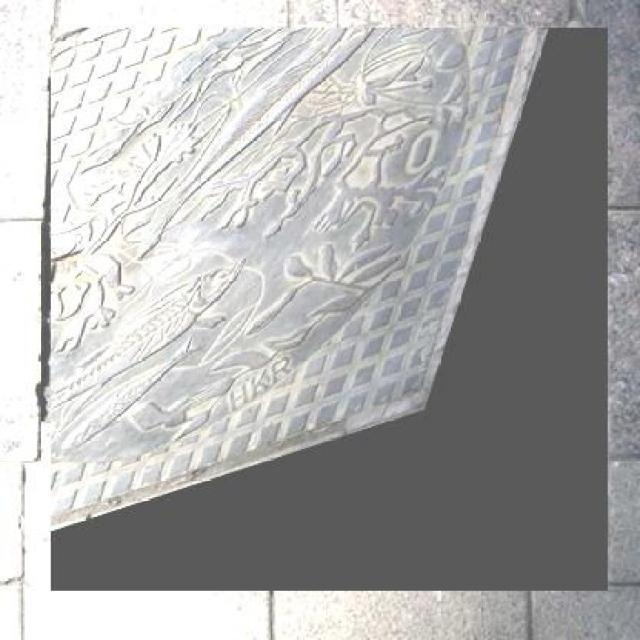Manhole: (50, 28, 608, 590)
